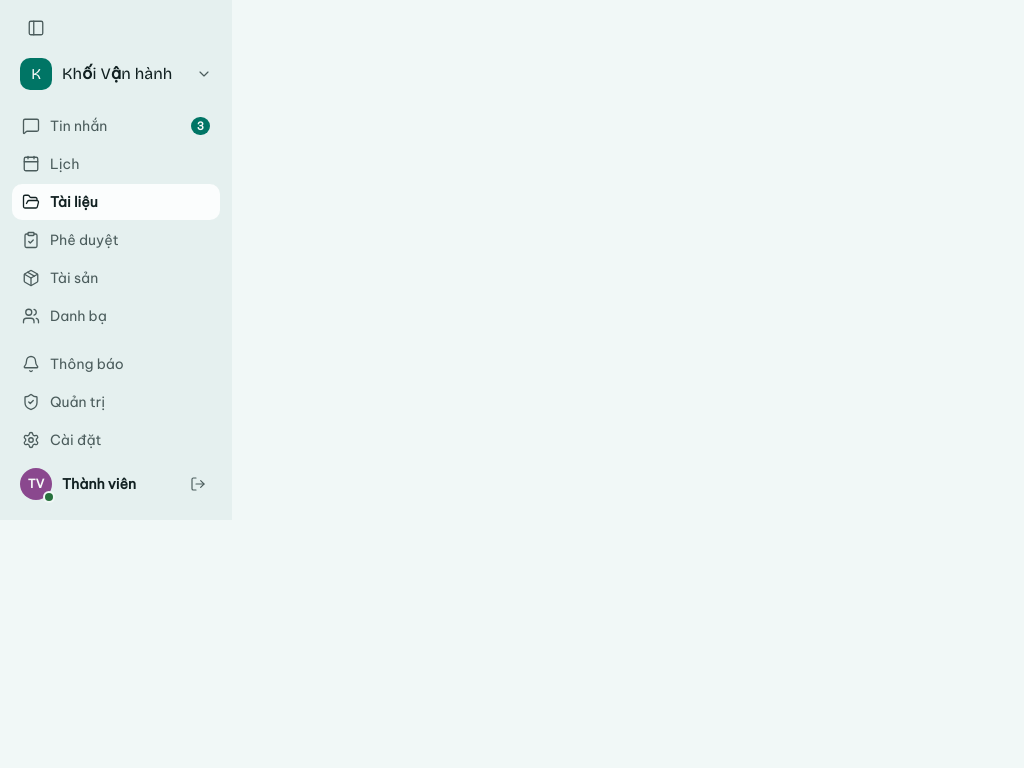
Test: AppSidebar, expanded › falls back to the headcount for a workspace type it does not know
Click the button "K Khối Vận hành" at (116, 74), box [12,52,220,96]
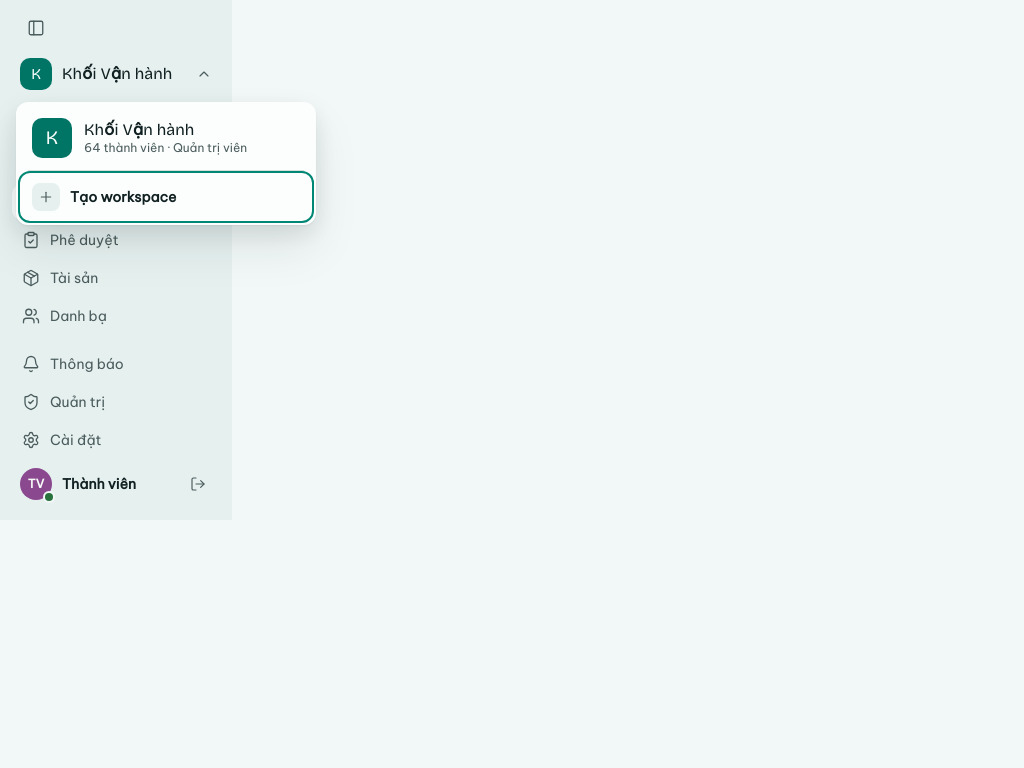
Now the text "64 thành viên · Quản trị viên" is shown, box [84,140,247,155]
